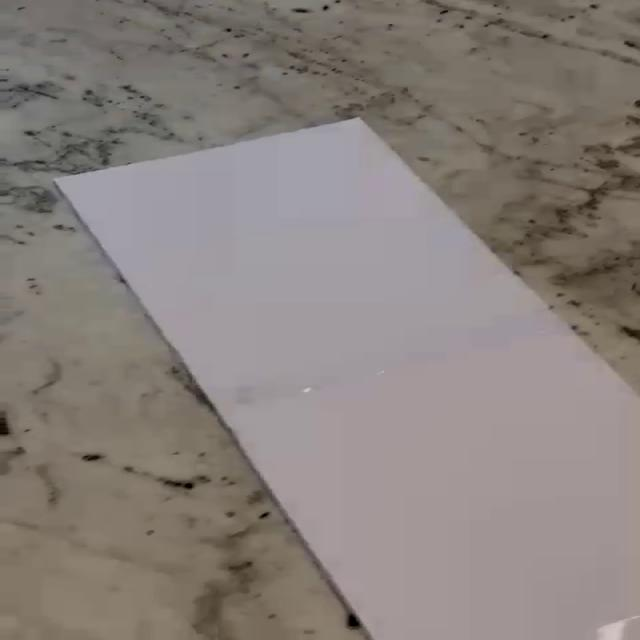road: (52, 118, 640, 640)
